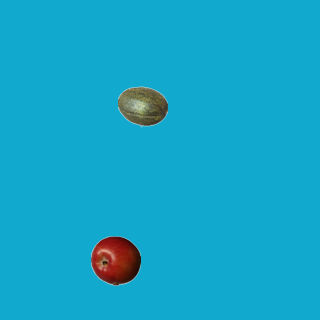Apple Braeburn: (90, 235, 140, 285)
Melon Piel de Sapo: (117, 81, 167, 131)
